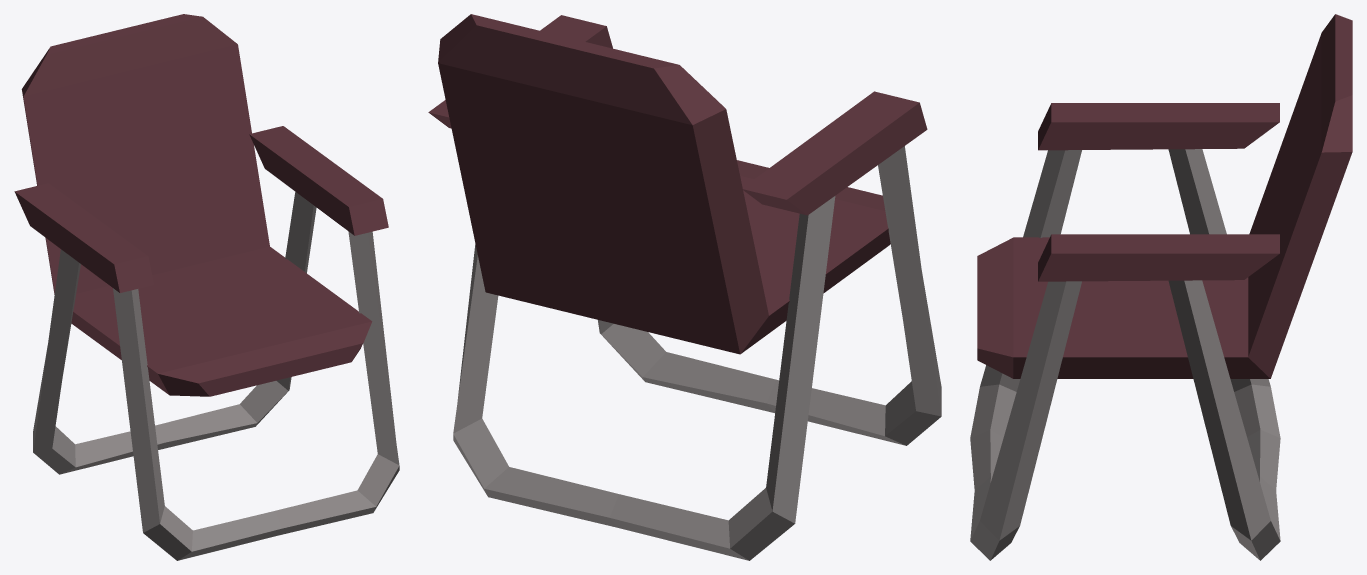
The model's file is chair-folding.fbx.
3 views of the same model, side by side, from view 1: azimuth 30°, elevation 25°; view 2: azimuth 150°, elevation 25°; view 3: azimuth 270°, elevation 25° (orthographic). The views are drawn at different scales.
Visible parts, largest first — view 1: chair-folding; view 2: chair-folding; view 3: chair-folding.
Part boxes in pixels (bbox=[...]): chair-folding: bbox=[14, 14, 399, 560]; chair-folding: bbox=[428, 14, 941, 560]; chair-folding: bbox=[970, 14, 1352, 560].
Bounding box in the file's own units: 0.6298 × 0.8754 × 0.677.
